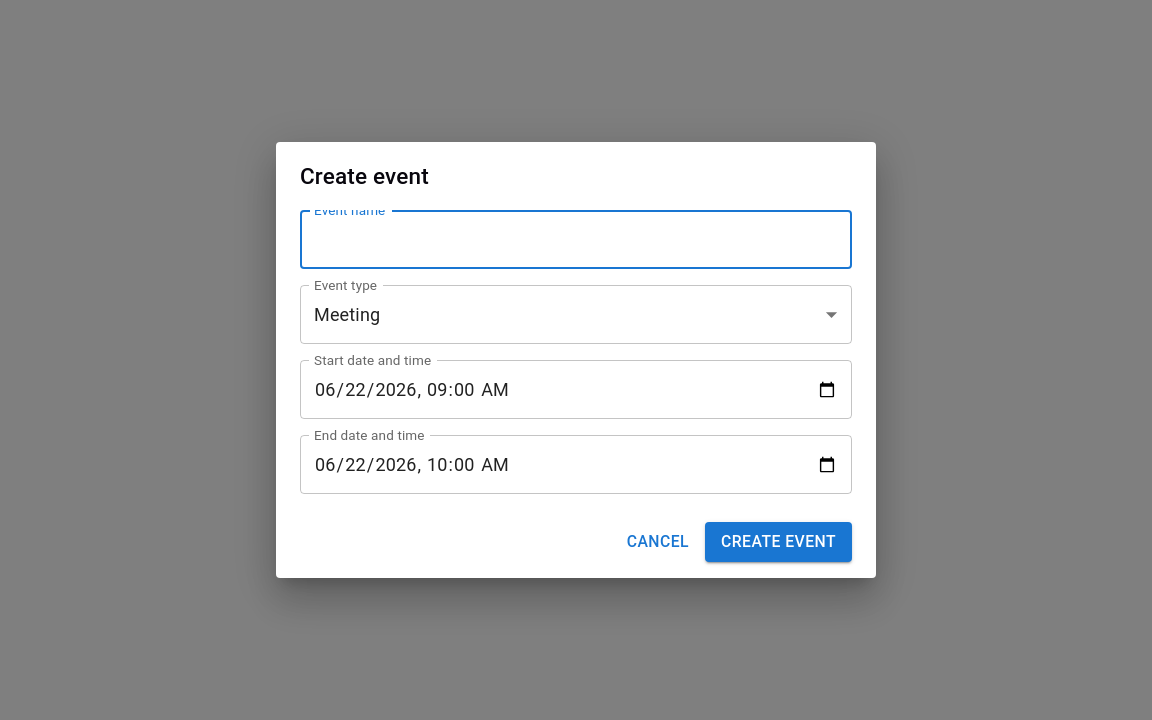
it: EventDialog › blocks save and shows an error for a reversed date range
Type "Invalid range" into the field labelled "Event name" at [576, 240], box [300,210,852,269]
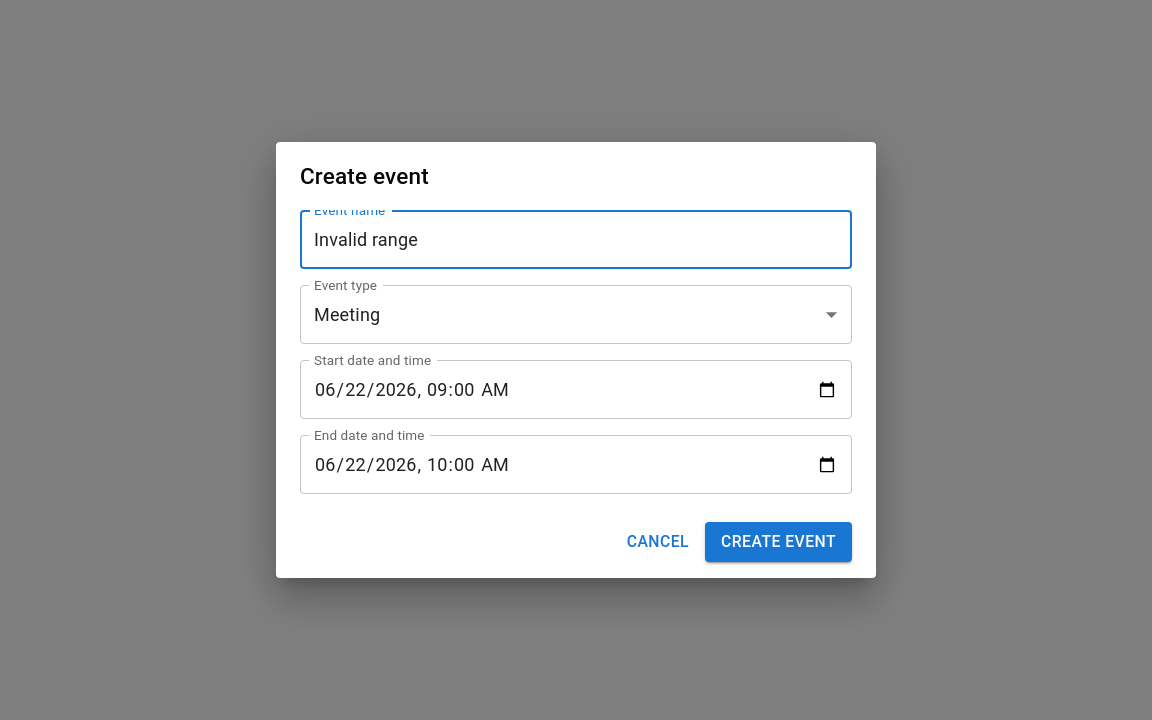
Replace the text in the field labelled "End date and time" with "2026-06-22T08:00" at [576, 465], box [300,435,852,494]
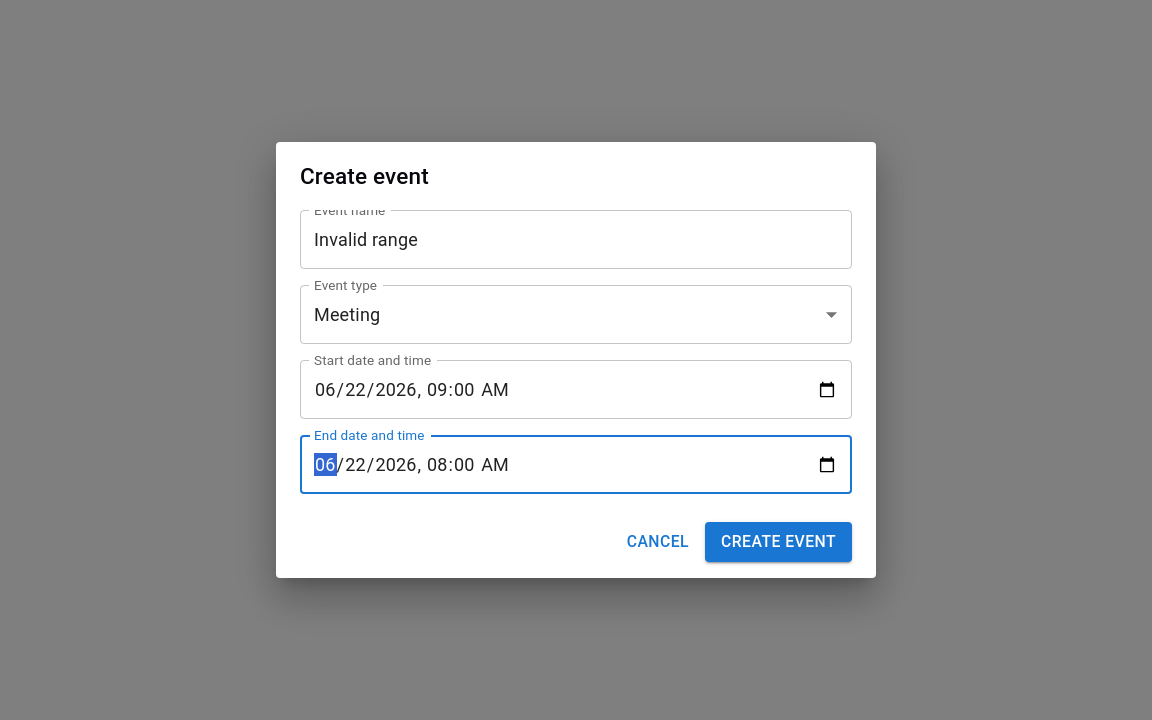
Click the button "Create event" at [779, 542], box [705,522,852,562]
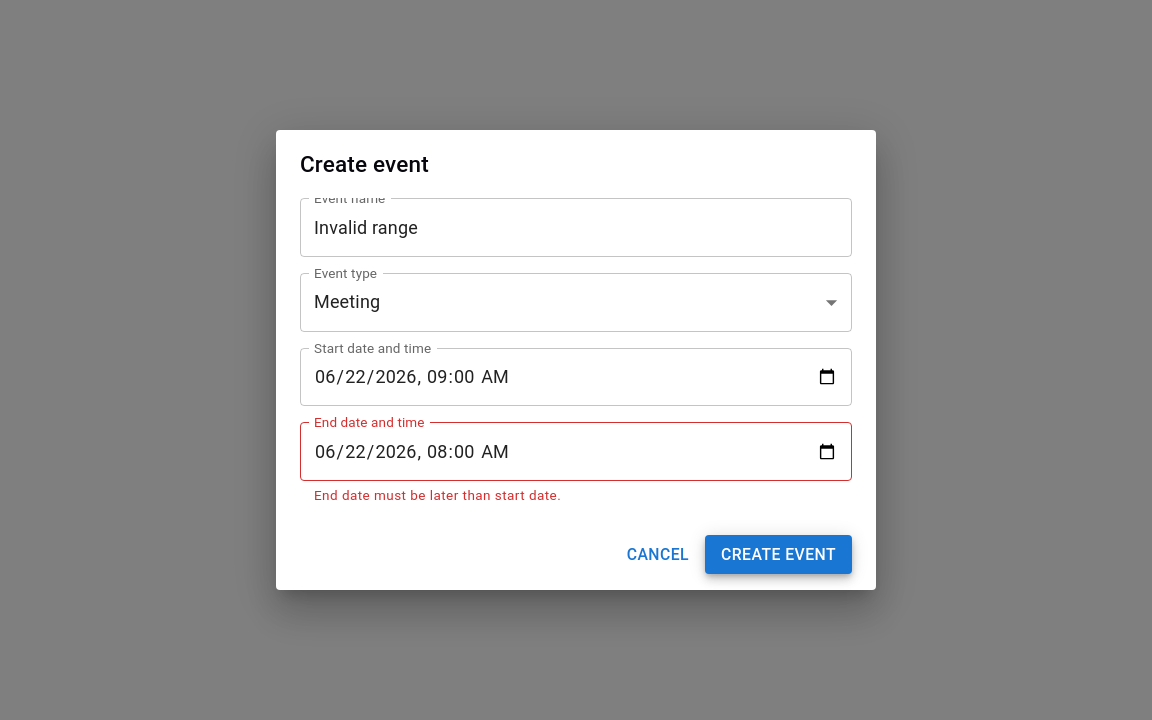
Now the text "End date must be later than start date." is shown, box [314,487,561,503]
